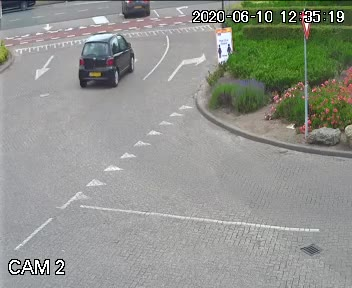car: (78, 29, 140, 88), (117, 0, 153, 22)
